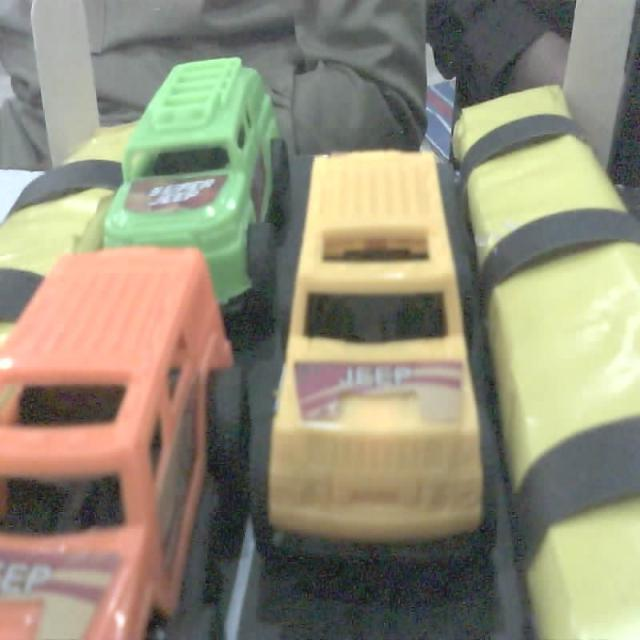ThreeCar: (255, 141, 507, 595), (0, 245, 257, 640), (95, 24, 284, 310)
